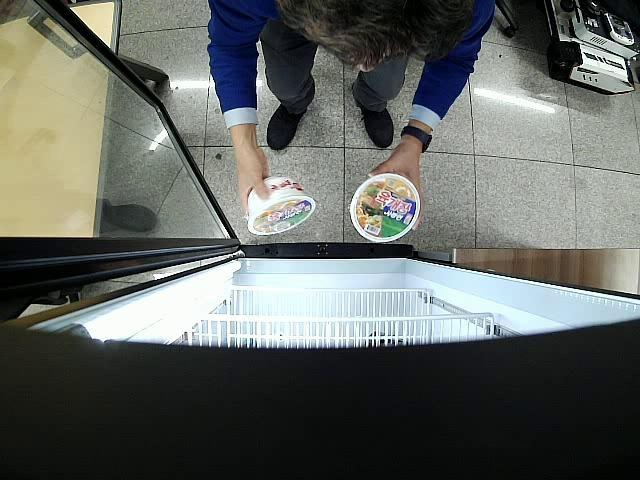09_yukGaeJang: (349, 173, 420, 242), (247, 176, 316, 234)
